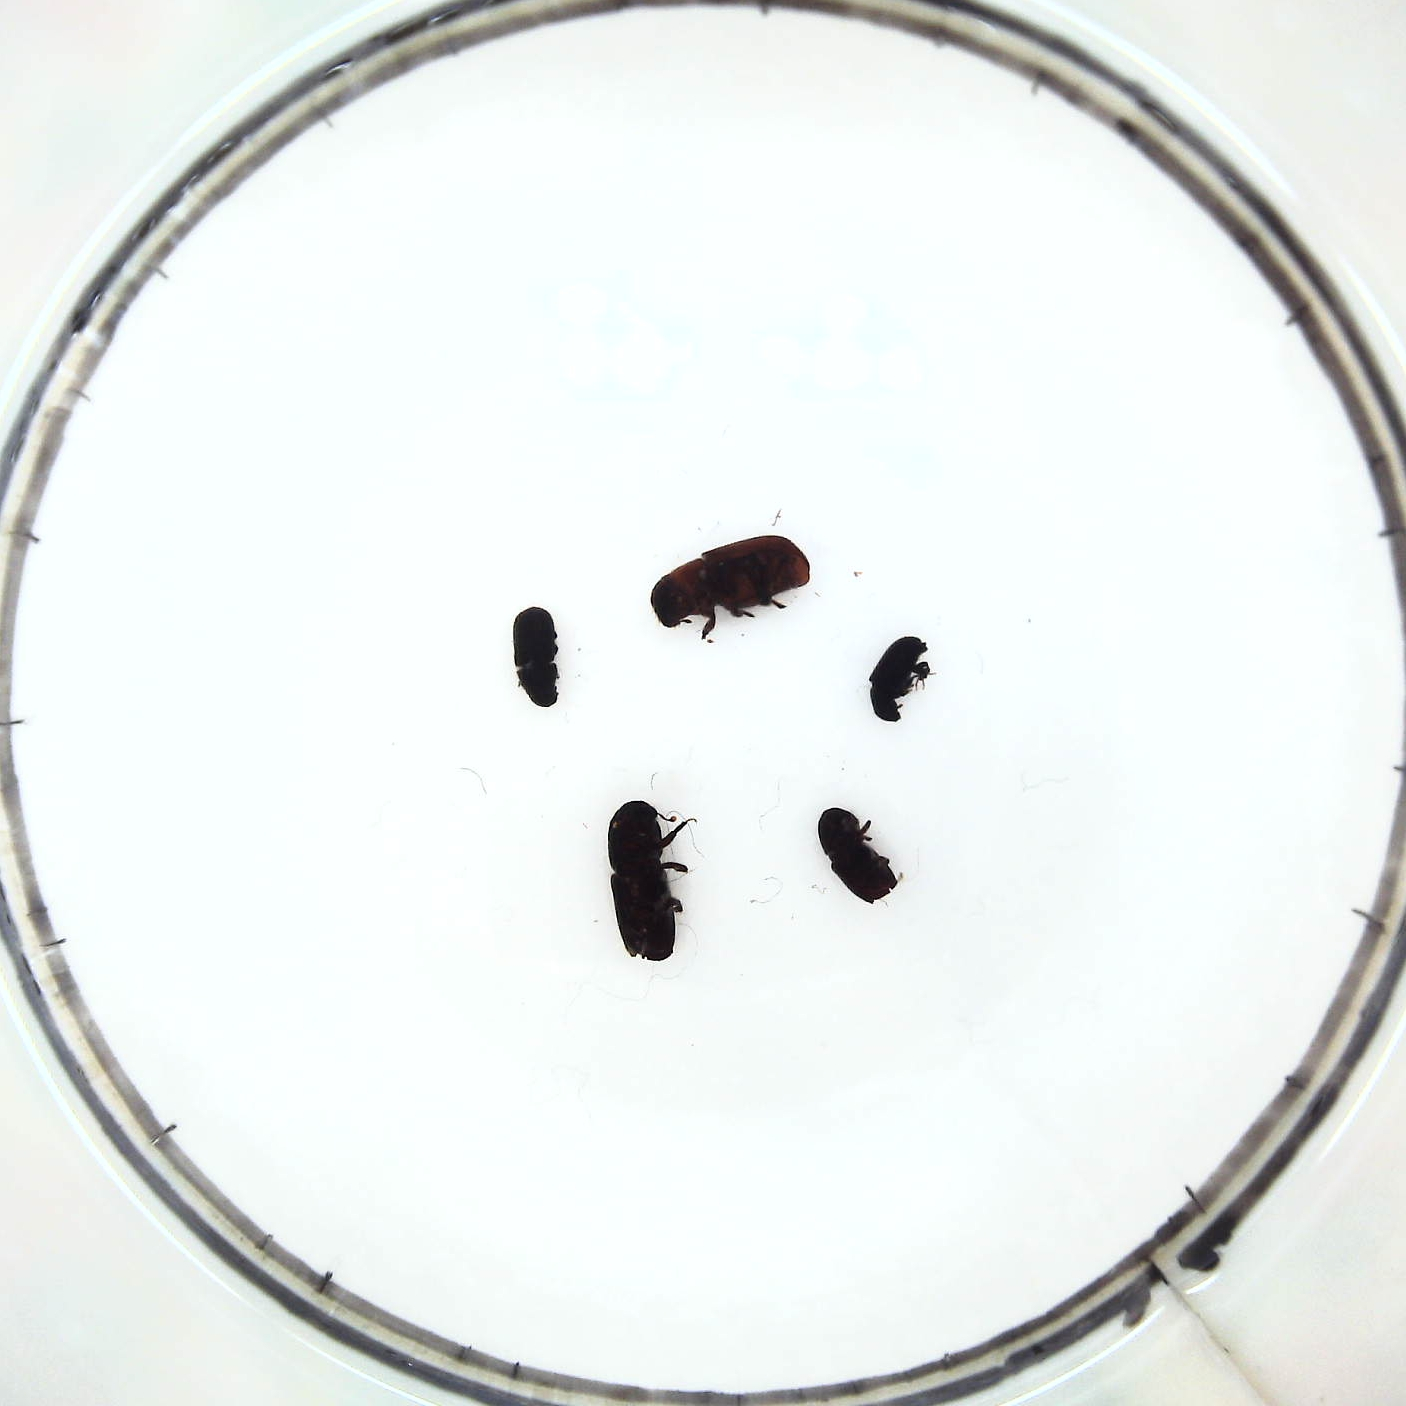Boerner: (609, 798, 685, 970)
Leconte: (651, 534, 812, 635)
Linnaeus: (815, 805, 897, 908)
armandi: (512, 606, 567, 706)
coleoptera: (870, 633, 936, 718)
